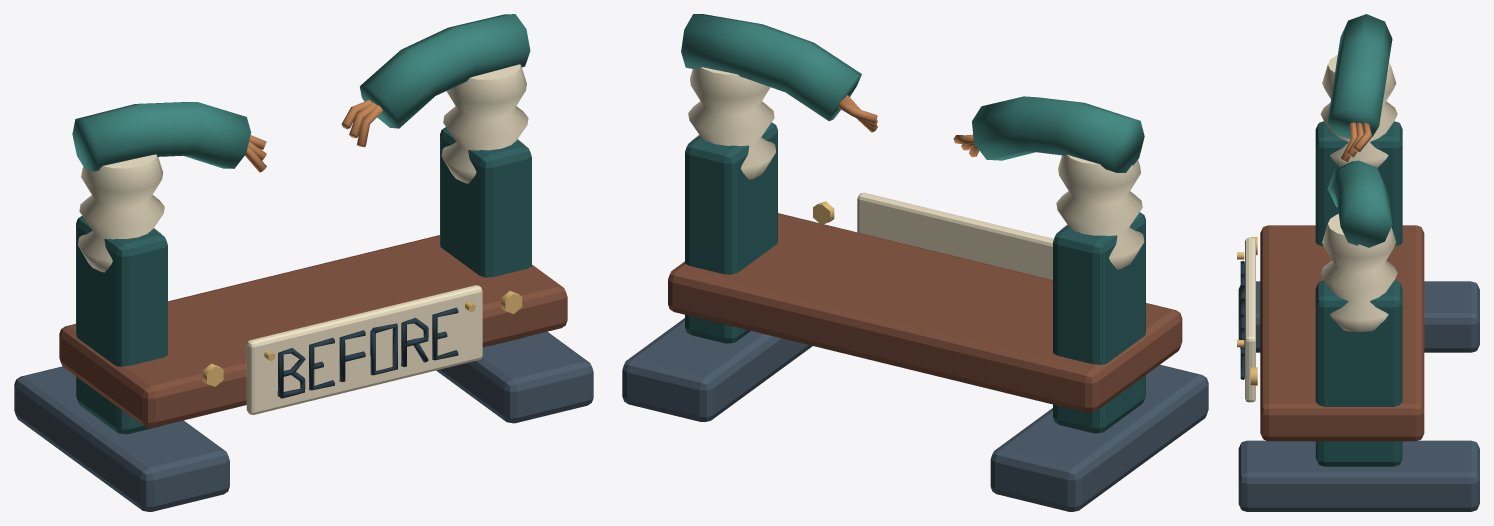
3 views of the same model, side by side, from view 1: azimuth 30°, elevation 25°; view 2: azimuth 150°, elevation 25°; view 3: azimuth 270°, elevation 25° (orthographic). The views are drawn at different scales.
Parts seen in each view (by area): view 1: PR038 workshop surfaces; view 2: PR038 workshop surfaces; view 3: PR038 workshop surfaces.
Boxes of the visible parts, <box> form: PR038 workshop surfaces: <box>14,14,593,511</box>; PR038 workshop surfaces: <box>622,14,1208,511</box>; PR038 workshop surfaces: <box>1237,14,1479,511</box>.
Size of the model in its own units: 1.1 by 0.804 by 0.5704.
